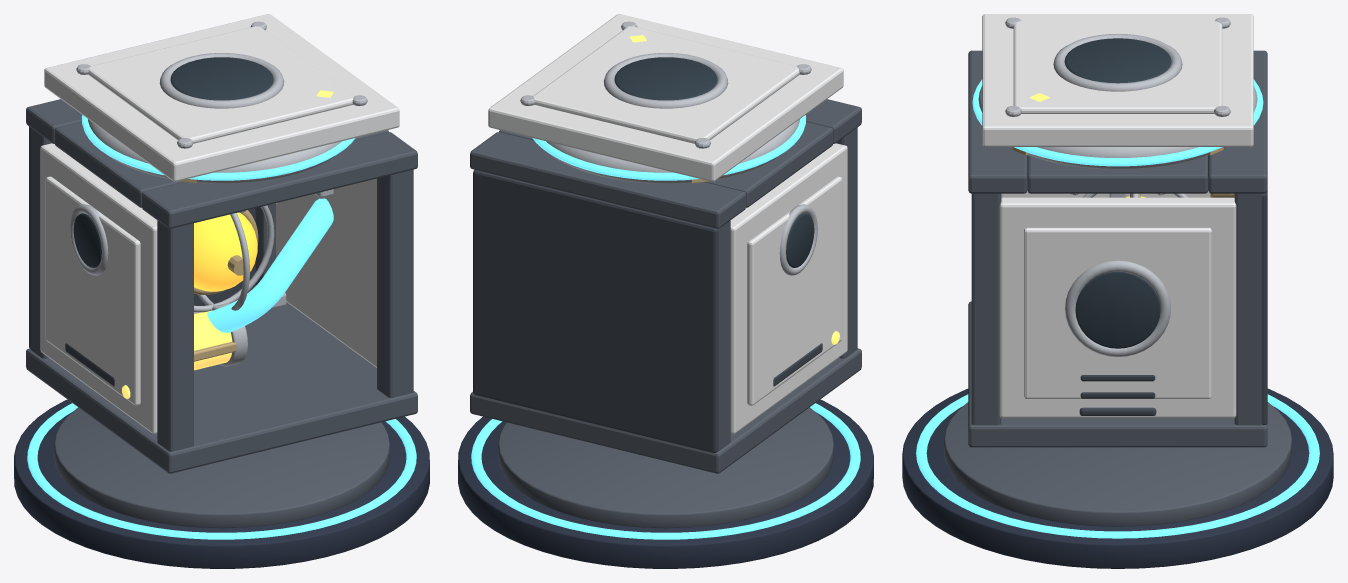
File: device_001.glb
3 renders of one model, left to right at view 1: azimuth 30°, elevation 25°; view 2: azimuth 150°, elevation 25°; view 3: azimuth 270°, elevation 25°, orthographic. The views are drawn at different scales.
Visible parts, largest first — view 1: Body, TopCover, LeftPanel, PedestalTop, Pedestal, RightPanel, PedestalGlow, CoolingTube, LockRing, EnergyCore, PowerCell; view 2: Body, TopCover, LeftPanel, PedestalTop, Pedestal, PedestalGlow, LockRing; view 3: RightPanel, Body, TopCover, PedestalTop, Pedestal, PedestalGlow, LockRing, LeftPanel.
Boxes of the visible parts, x1,y1,x2,y2 form: Body: [26, 99, 417, 473]; TopCover: [44, 14, 399, 181]; LeftPanel: [40, 143, 157, 433]; PedestalTop: [54, 407, 389, 528]; Pedestal: [14, 399, 429, 568]; RightPanel: [276, 178, 376, 367]; PedestalGlow: [27, 403, 416, 539]; CoolingTube: [207, 198, 333, 332]; LockRing: [81, 115, 355, 183]; EnergyCore: [194, 210, 258, 294]; PowerCell: [194, 303, 247, 370]; Body: [470, 99, 861, 473]; TopCover: [488, 14, 843, 181]; LeftPanel: [730, 143, 847, 433]; PedestalTop: [498, 407, 833, 528]; Pedestal: [458, 399, 873, 568]; PedestalGlow: [471, 403, 860, 539]; LockRing: [532, 115, 806, 183]; RightPanel: [999, 197, 1236, 417]; Body: [968, 50, 1267, 447]; TopCover: [982, 14, 1253, 146]; PedestalTop: [944, 402, 1291, 526]; Pedestal: [902, 388, 1333, 568]; PedestalGlow: [916, 394, 1319, 538]; LockRing: [972, 79, 1263, 169]; LeftPanel: [1001, 191, 1210, 197].
Bounding box in the file's own units: 1.24 × 1.33 × 1.24.
